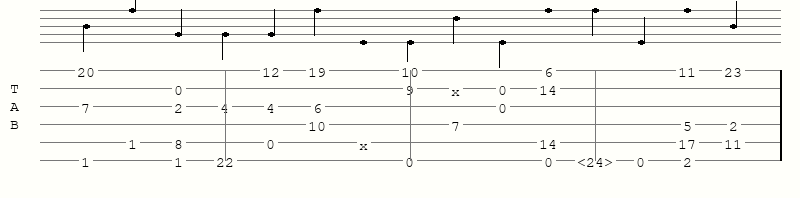0: (174, 82, 187, 95), (266, 136, 279, 149), (405, 154, 418, 167), (498, 82, 511, 95), (498, 100, 511, 113), (544, 154, 557, 167), (636, 154, 649, 167)
1: (81, 154, 94, 167), (128, 136, 141, 149), (174, 154, 187, 167)
10: (308, 118, 330, 131), (401, 64, 423, 77)
11: (678, 64, 700, 77), (724, 136, 746, 149)
12: (262, 64, 284, 77)
14: (539, 82, 561, 95), (539, 136, 561, 149)
17: (678, 136, 700, 149)
19: (308, 64, 330, 77)
2: (174, 100, 187, 113), (683, 154, 696, 167), (729, 118, 742, 131)
20: (77, 64, 99, 77)
22: (216, 154, 238, 167)
23: (724, 64, 746, 77)
4: (220, 100, 233, 113), (266, 100, 279, 113)
5: (683, 118, 696, 131)
6: (313, 100, 326, 113), (544, 64, 557, 77)
7: (81, 100, 94, 113), (451, 118, 464, 131)
8: (174, 136, 187, 149)
9: (405, 82, 418, 95)
harmonic: (577, 154, 617, 167)
x: (359, 137, 372, 147), (451, 83, 464, 93)
